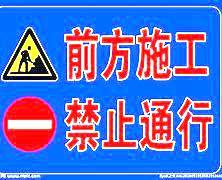sign: (2, 4, 220, 174)
